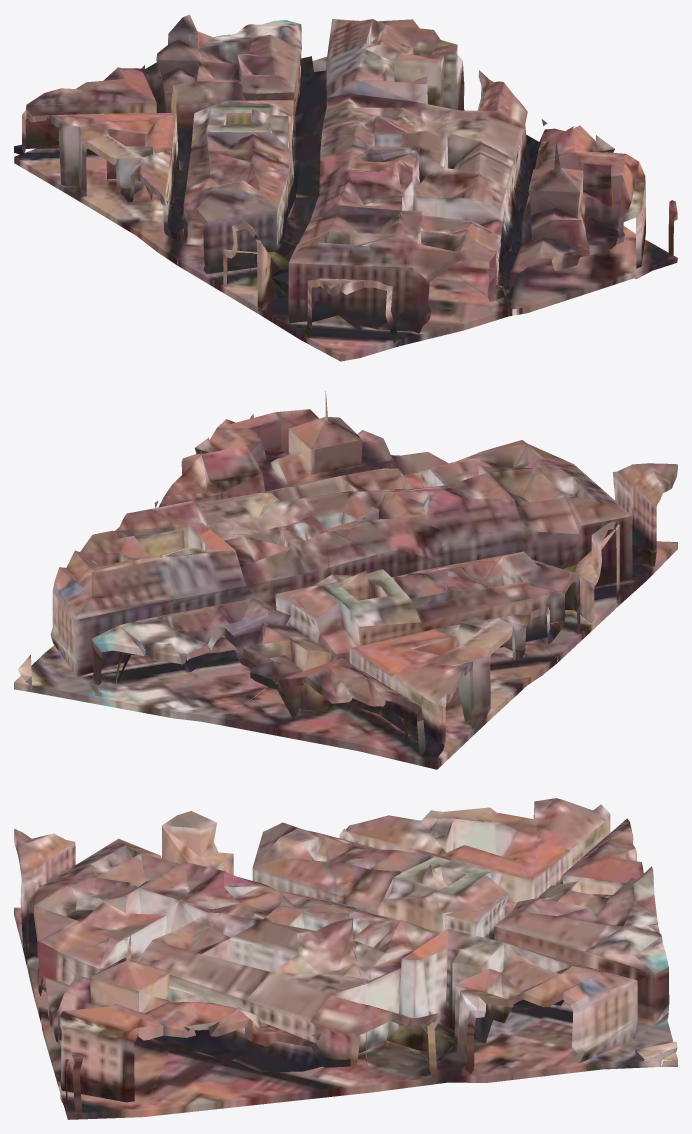
3 views of the same model, one above another, from view 1: azimuth 30°, elevation 25°; view 2: azimuth 150°, elevation 25°; view 3: azimuth 270°, elevation 25° (orthographic). The views are drawn at different scales.
Visible parts, largest first — view 1: Mesh_0; view 2: Mesh_0; view 3: Mesh_0.
Boxes of the visible parts, left/top/right/bottom form: Mesh_0: left=14, top=14, right=677, bottom=361; Mesh_0: left=14, top=391, right=677, bottom=769; Mesh_0: left=14, top=798, right=677, bottom=1119.
Bounding box in the file's own units: 133 × 39.1 × 165.
1 material, 1 textured.
